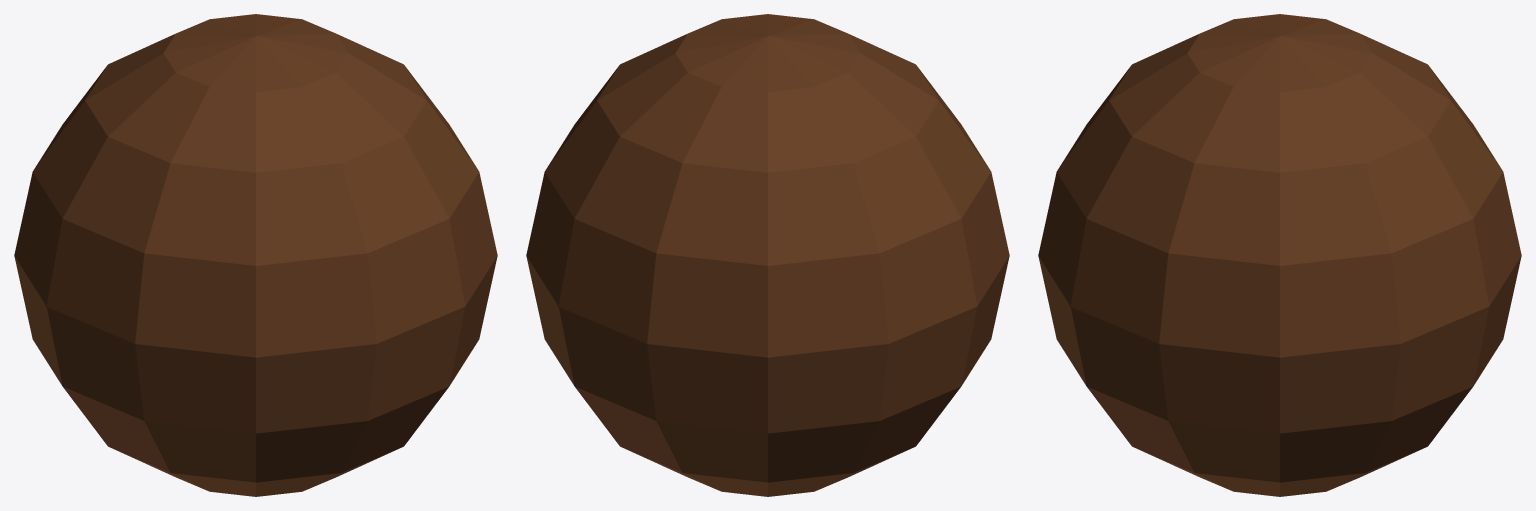
The model's file is kokosSlicedKOOL.fbx.
The picture shows the model from 3 angles, left to right: view 1: azimuth 30°, elevation 25°; view 2: azimuth 150°, elevation 25°; view 3: azimuth 270°, elevation 25°; orthographic projection.
Visible parts, largest first — view 1: Sphere.020, Sphere.021; view 2: Sphere.020, Sphere.021; view 3: Sphere.021, Sphere.020.
Boxes of the visible parts, box(x1,y1,x2,y2) form: Sphere.020: box(14, 19, 376, 496); Sphere.021: box(210, 14, 497, 490); Sphere.020: box(647, 19, 1009, 496); Sphere.021: box(526, 14, 813, 490); Sphere.021: box(1038, 36, 1521, 496); Sphere.020: box(1058, 14, 1501, 169).
Size of the model in its own units: 378 by 378 by 378.
